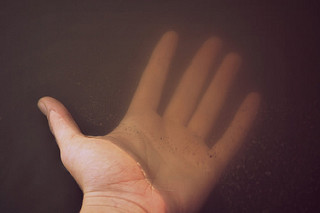palm: (97, 118, 204, 202)
